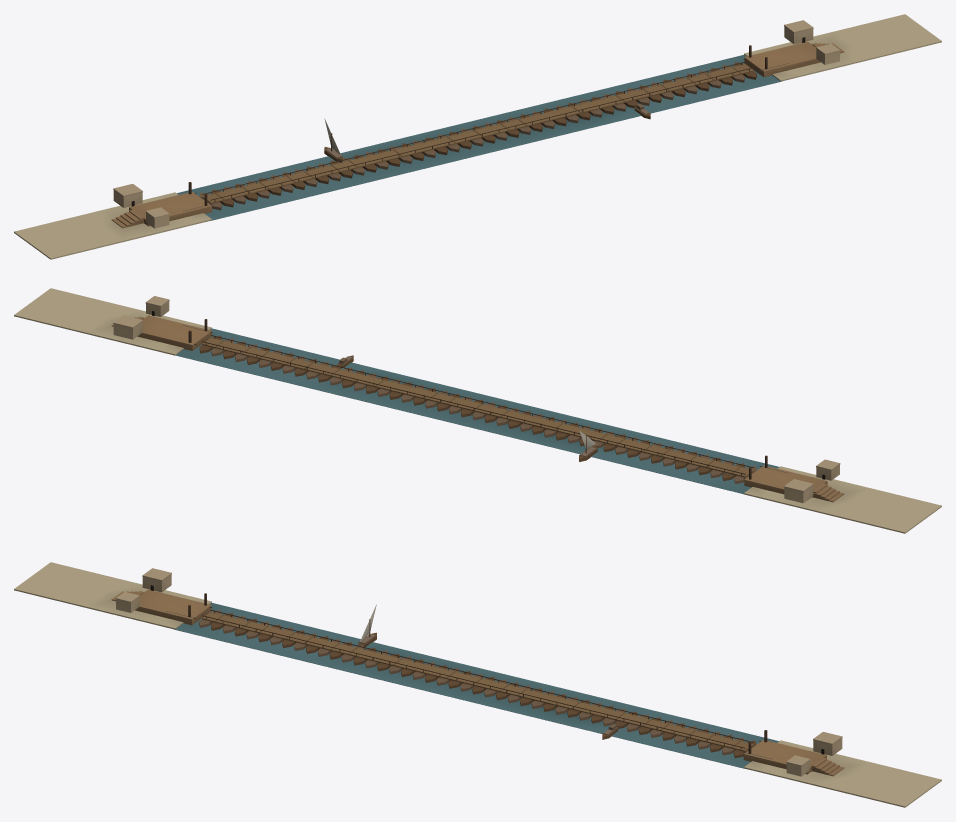
The model's file is bridge-of-boats.glb.
The picture shows the model from 3 angles, top to bottom: view 1: azimuth 30°, elevation 25°; view 2: azimuth 150°, elevation 25°; view 3: azimuth 330°, elevation 25°; orthographic projection.
Parts seen in each view (by area): view 1: p0_abutments, p2_deck, p1_boats; view 2: p0_abutments, p2_deck, p1_boats; view 3: p0_abutments, p2_deck, p1_boats.
Boxes of the visible parts, x1,y1,x2,y2 form: p0_abutments: [14, 14, 941, 259]; p2_deck: [183, 58, 789, 211]; p1_boats: [199, 62, 756, 210]; p0_abutments: [14, 288, 941, 533]; p2_deck: [183, 325, 788, 478]; p1_boats: [199, 336, 756, 483]; p0_abutments: [14, 562, 941, 807]; p2_deck: [166, 606, 772, 759]; p1_boats: [199, 610, 756, 758].
Bounding box in the file's own units: 420 × 14.42 × 41.
